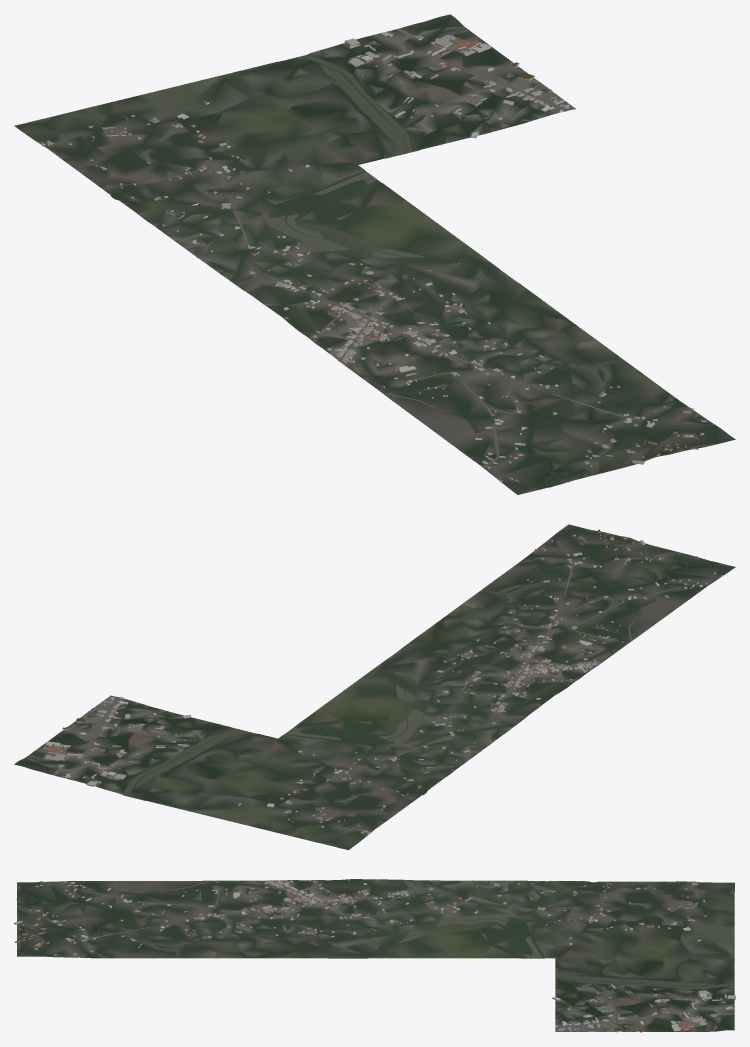
The picture shows the model from 3 angles, top to bottom: view 1: azimuth 30°, elevation 25°; view 2: azimuth 150°, elevation 25°; view 3: azimuth 270°, elevation 25°; orthographic projection. The views are drawn at different scales.
Parts seen in each view (by area): view 1: ground, buildings, water, roads; view 2: ground, buildings, water, roads; view 3: ground, buildings, water, roads.
Part boxes in pixels (<box>): ground: <box>14,14,735,494</box>; buildings: <box>41,31,706,482</box>; water: <box>120,55,669,487</box>; roads: <box>102,34,714,468</box>; ground: <box>14,524,735,849</box>; buildings: <box>43,529,724,834</box>; water: <box>124,561,711,798</box>; roads: <box>70,536,708,823</box>; ground: <box>17,879,734,1031</box>; buildings: <box>14,879,735,1032</box>; water: <box>17,883,734,989</box>; roads: <box>17,880,734,1031</box>.
Size of the model in its own units: 2825 by 40.93 by 5635.
